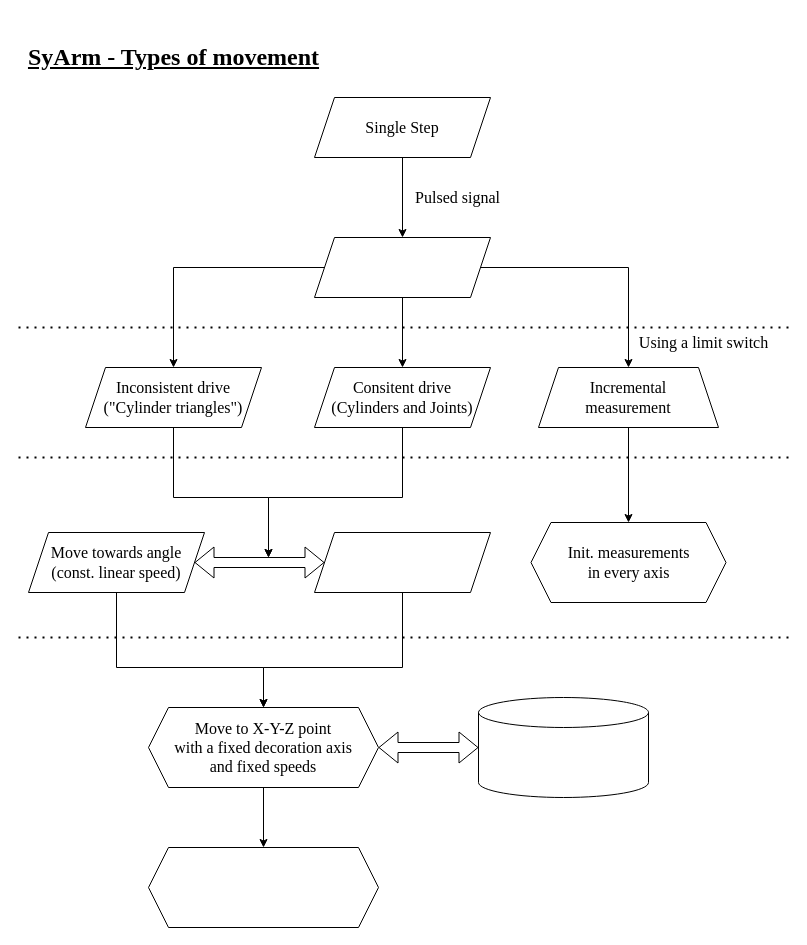
Some shapes in this 807 by 945 pixel diagram are drawn without their labels. Each missing label, with the centre of its shape:
"Move along paths stored in G-Code or other formats" goes at point (263, 887).
"Move towards angle (const. angular speed)" goes at point (402, 562).
"Multiple steps (With acc. curves)" goes at point (402, 267).
"Stored points" goes at point (563, 747).
